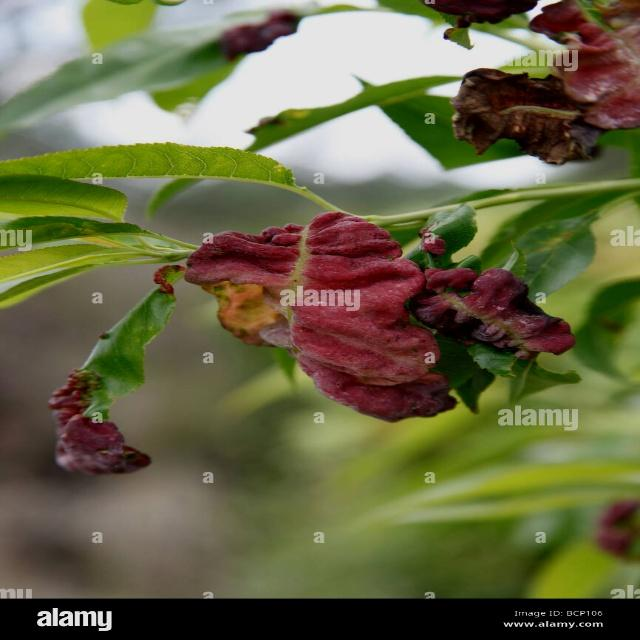leaf_curl: (192, 186, 465, 471), (352, 161, 625, 446), (43, 262, 210, 524), (427, 0, 640, 167)
